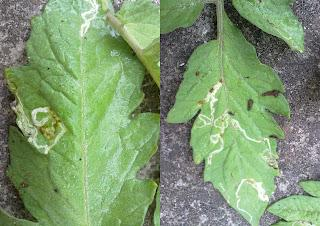Leaf_Miner: (6, 0, 162, 226), (168, 36, 291, 226)
